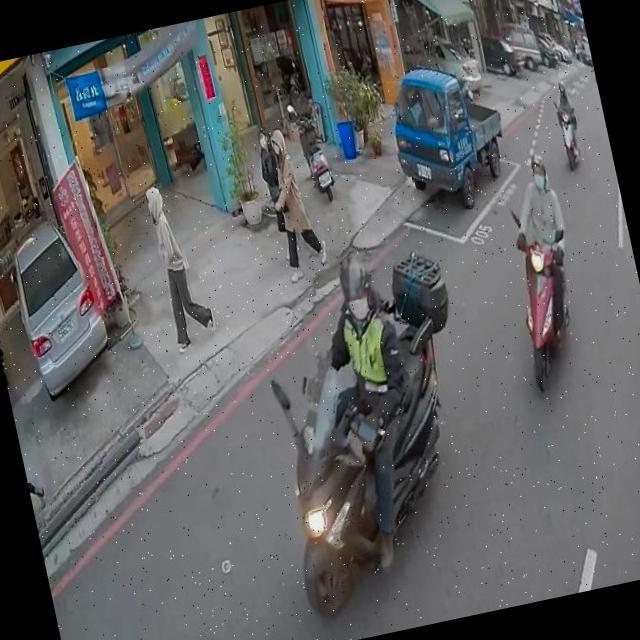person: (240, 238, 446, 589), (494, 147, 590, 356), (134, 172, 220, 358), (252, 116, 331, 277), (250, 115, 322, 268), (546, 80, 585, 158)
